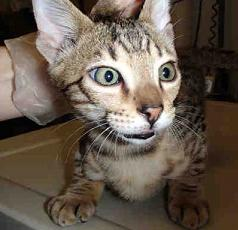bengal: (17, 1, 189, 149)
